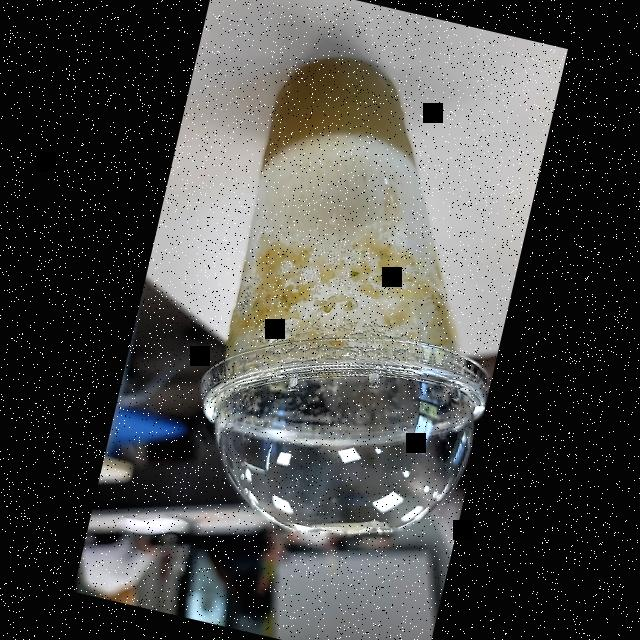plastic_cup: (174, 38, 555, 572)
plastic_cup_lid: (167, 292, 496, 568)
